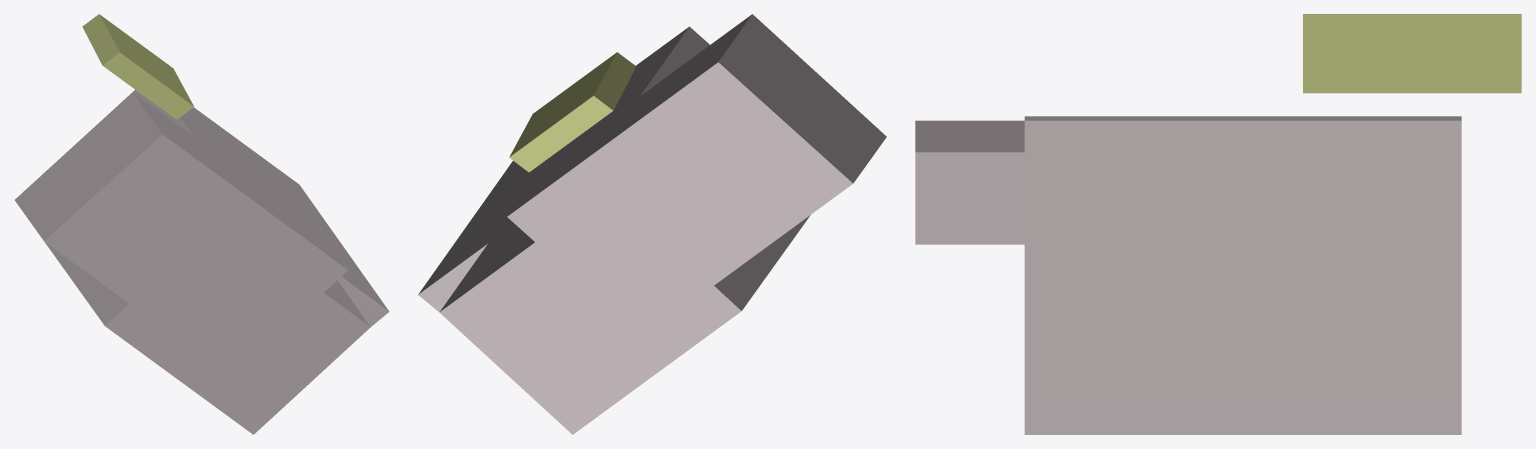
3 renders of one model, left to right at view 1: azimuth 30°, elevation 25°; view 2: azimuth 150°, elevation 25°; view 3: azimuth 270°, elevation 25°, orthographic. The views are drawn at different scales.
Visible parts, largest first — view 1: 0_1_1_3_2_2_0_3_2_2_1; view 2: 0_1_1_3_2_2_0_3_2_2_1; view 3: 0_1_1_3_2_2_0_3_2_2_1.
Part boxes in pixels (x1=…): 0_1_1_3_2_2_0_3_2_2_1: x1=14, y1=14, x2=389, y2=434; 0_1_1_3_2_2_0_3_2_2_1: x1=418, y1=14, x2=886, y2=434; 0_1_1_3_2_2_0_3_2_2_1: x1=915, y1=14, x2=1521, y2=434.
Size of the model in its own units: 10.56 by 13.08 by 16.65.
